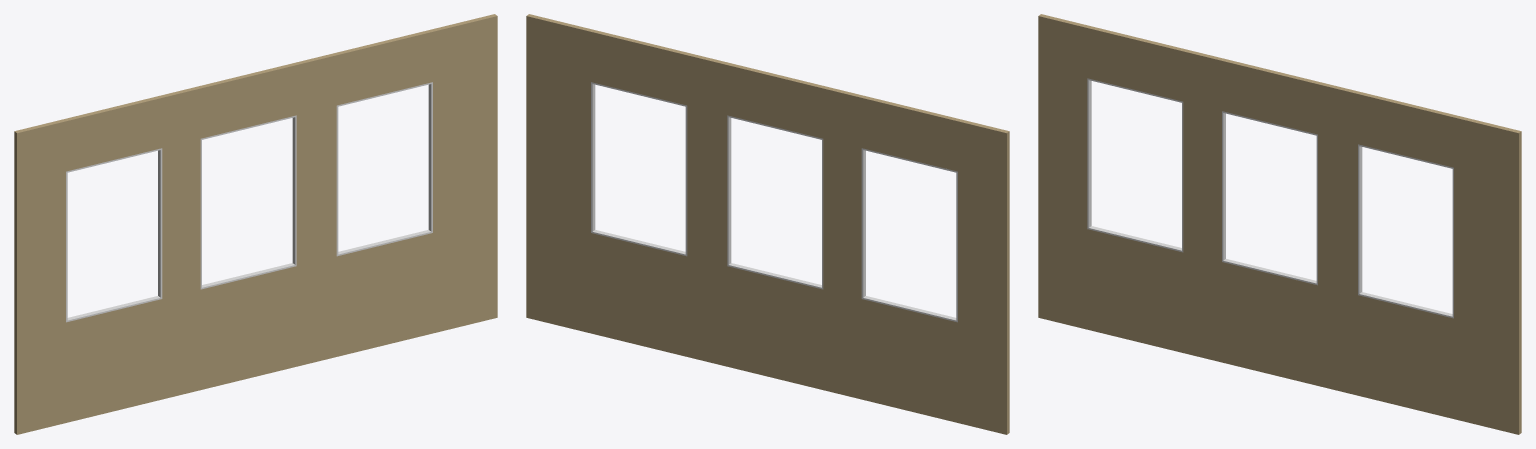
Rendered from 有窗墻.fbx.
3 renders of one model, left to right at view 1: azimuth 30°, elevation 25°; view 2: azimuth 150°, elevation 25°; view 3: azimuth 330°, elevation 25°, orthographic.
Visible parts, largest first — view 1: 墻壁001, 窗邊, 窗邊002, 窗邊001; view 2: 墻壁001, 窗邊, 窗邊002, 窗邊001; view 3: 墻壁001, 窗邊002, 窗邊, 窗邊001.
Boxes of the visible parts, left/top/right/bottom form: 墻壁001: left=14, top=14, right=497, bottom=434; 窗邊: left=336, top=82, right=432, bottom=256; 窗邊002: left=66, top=148, right=162, bottom=322; 窗邊001: left=200, top=115, right=296, bottom=289; 墻壁001: left=526, top=14, right=1009, bottom=434; 窗邊: left=591, top=82, right=687, bottom=256; 窗邊002: left=861, top=148, right=957, bottom=322; 窗邊001: left=727, top=115, right=823, bottom=289; 墻壁001: left=1038, top=14, right=1521, bottom=434; 窗邊002: left=1087, top=78, right=1183, bottom=252; 窗邊: left=1358, top=144, right=1453, bottom=318; 窗邊001: left=1222, top=111, right=1317, bottom=285.
Bounding box in the file's own units: 500 × 300 × 5.
